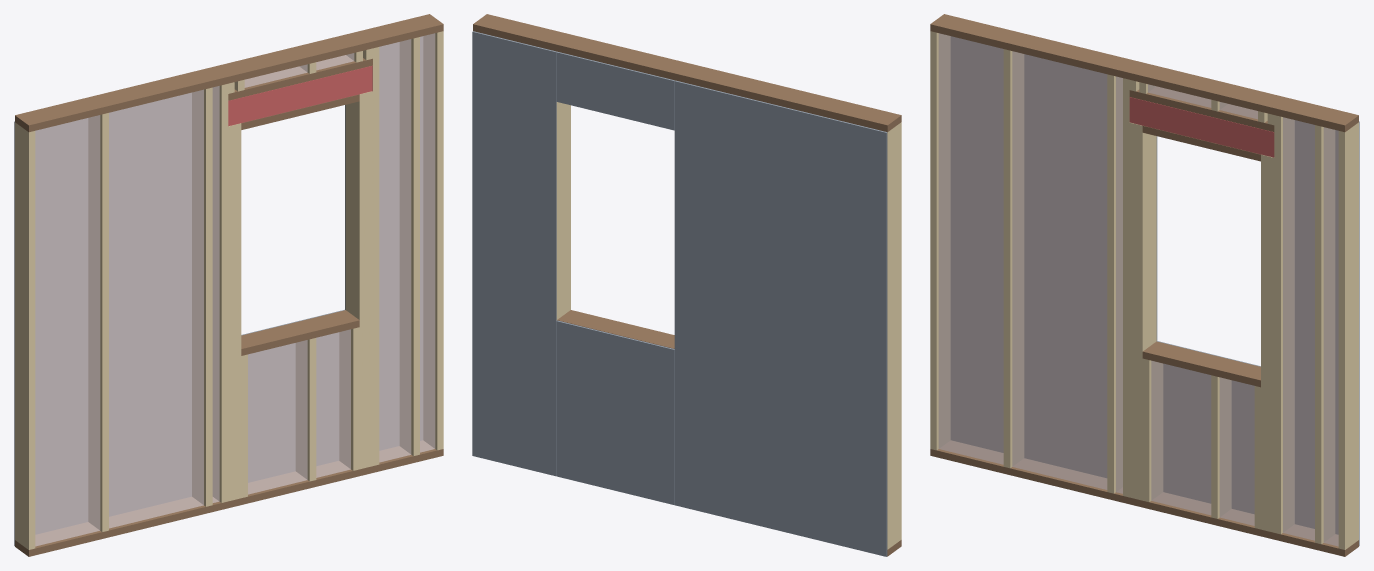
3 views of the same model, side by side, from view 1: azimuth 30°, elevation 25°; view 2: azimuth 150°, elevation 25°; view 3: azimuth 330°, elevation 25° (orthographic).
Visible parts, largest first — view 1: EX10 GF; view 2: EX10 GF; view 3: EX10 GF.
Boxes of the visible parts, <box> form: EX10 GF: <box>14,14,443,556</box>; EX10 GF: <box>472,14,901,556</box>; EX10 GF: <box>930,14,1359,556</box>.
Size of the model in its own units: 2.4 by 2.39 by 0.149.
